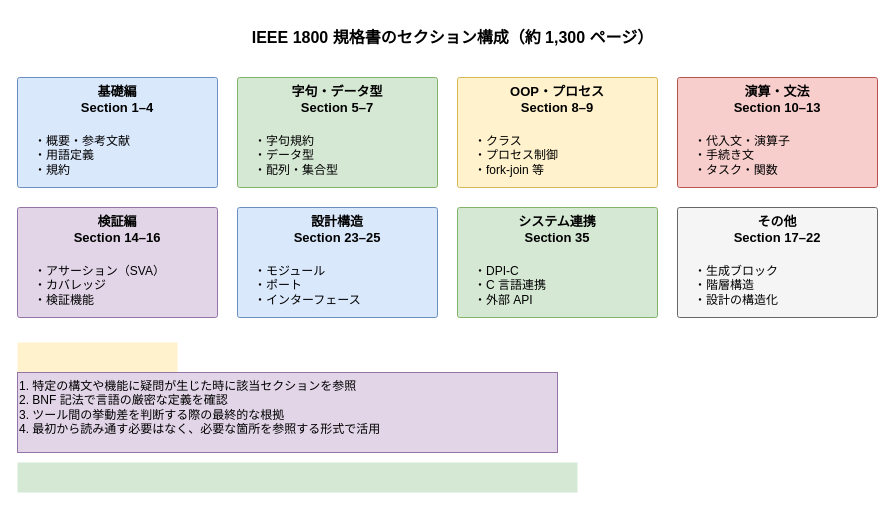
Some shapes in this 895 by 509 pixel diagram are drawn without their labels. The centre of each missing label's shape, as x and y in pixels:
最新版: IEEE 1800-2023（約 1,300 ページ）— IEEE GET Program で無料閲覧可能: the point at 297,477
規格書の活用方法: the point at 97,357
